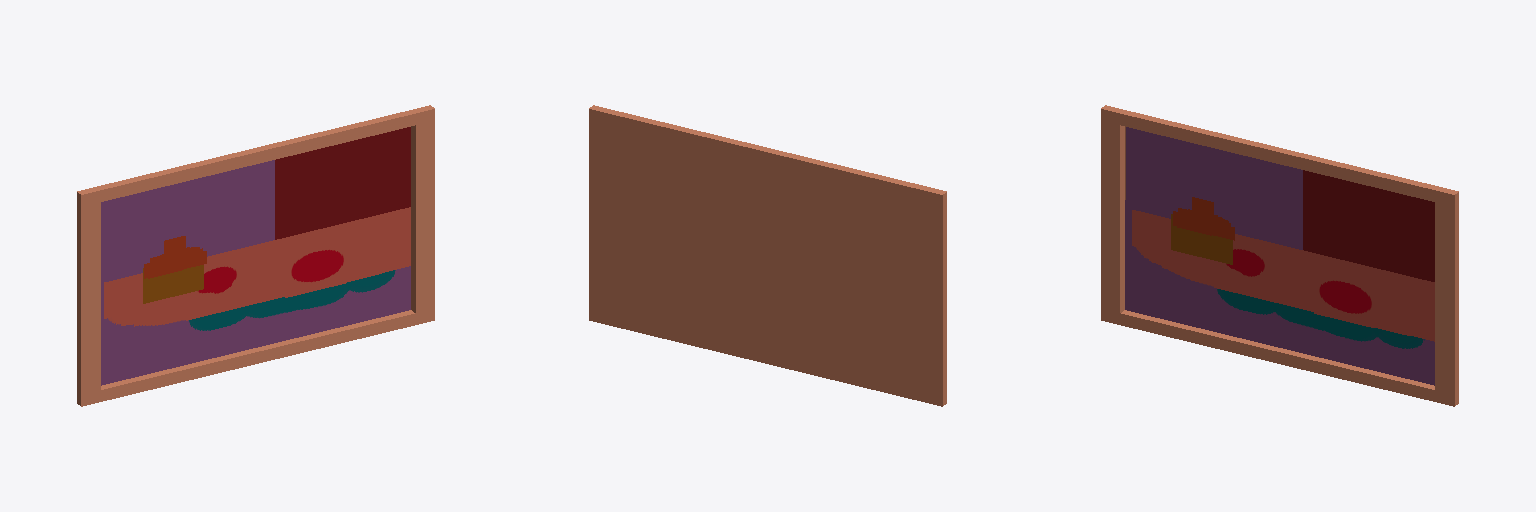
The picture shows the model from 3 angles: view 1: azimuth 30°, elevation 25°; view 2: azimuth 150°, elevation 25°; view 3: azimuth 330°, elevation 25°; orthographic projection.
Parts seen in each view (by area): view 1: Cube.001_Cube.009; view 2: Cube.001_Cube.009; view 3: Cube.001_Cube.009.
Boxes of the visible parts, x1=… form: Cube.001_Cube.009: x1=77, y1=105, x2=434, y2=406; Cube.001_Cube.009: x1=589, y1=105, x2=946, y2=406; Cube.001_Cube.009: x1=1101, y1=105, x2=1458, y2=406.
Bounding box in the file's own units: 10.55 × 6.03 × 0.2512.
1 materials, 1 textured.